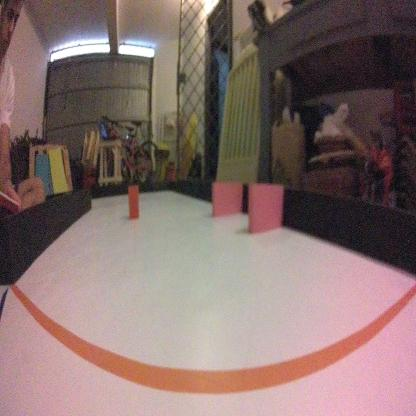magenta: (247, 179, 284, 235), (211, 178, 242, 218)
red: (128, 182, 140, 223)
